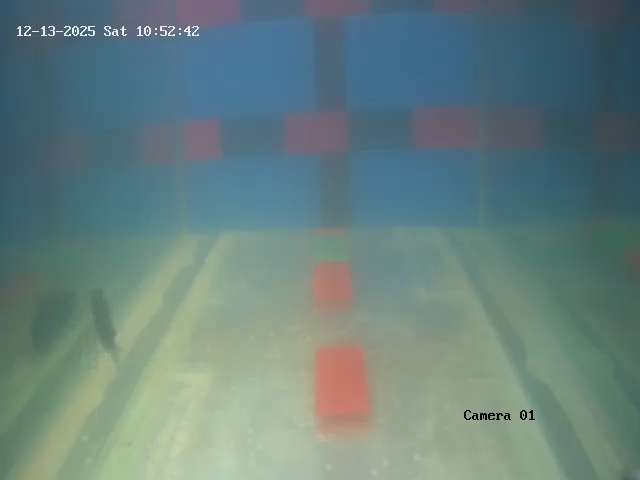fish: (81, 271, 138, 367)
